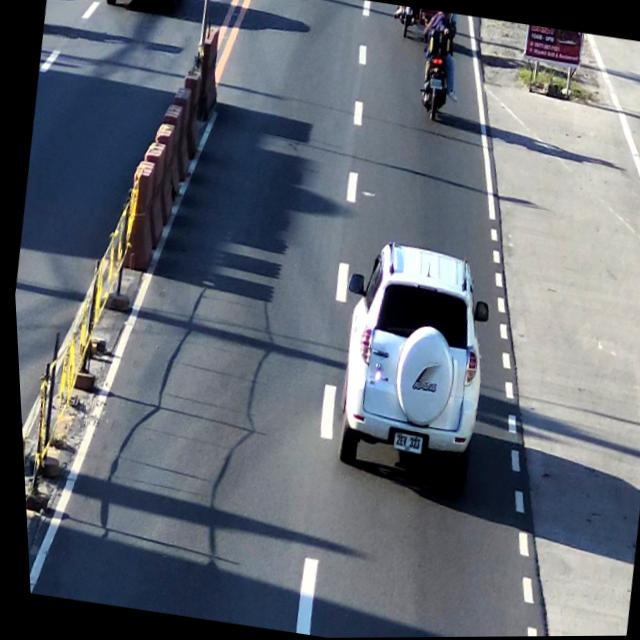Car: (319, 237, 499, 494)
License-Plate: (387, 430, 420, 458), (426, 77, 444, 92)
Motorcycle: (413, 11, 463, 124)
